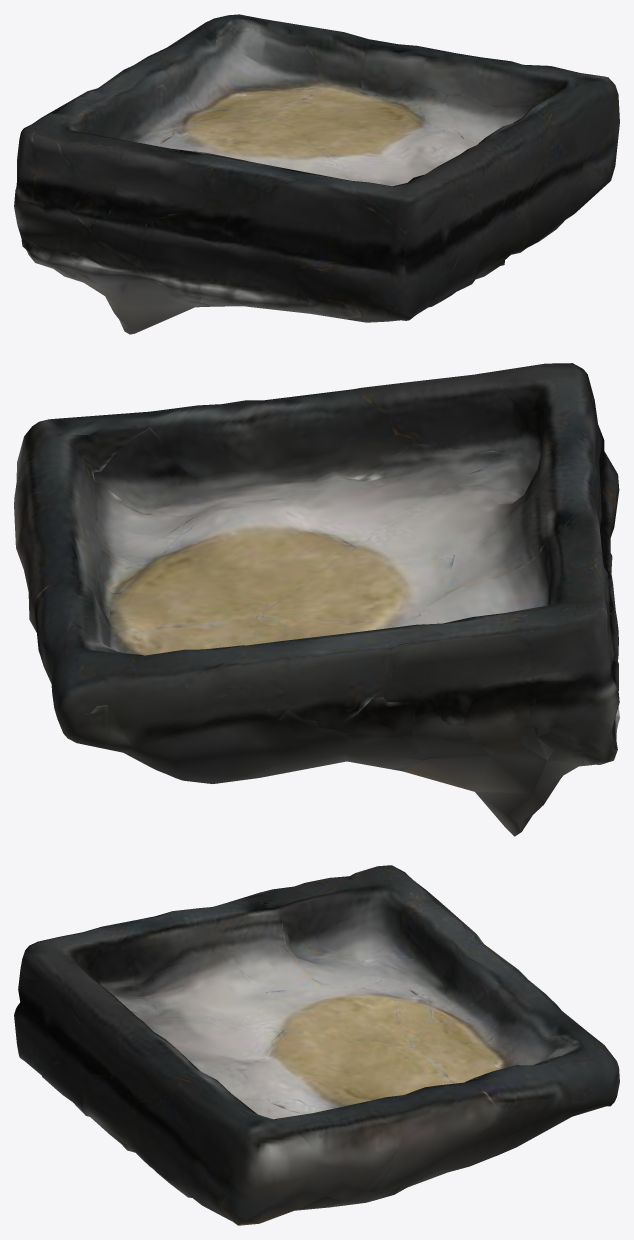
Rendered from hall.glb.
3 views of the same model, one above another, from view 1: azimuth 30°, elevation 25°; view 2: azimuth 150°, elevation 25°; view 3: azimuth 270°, elevation 25° (orthographic). The views are drawn at different scales.
Bounding box in the file's own units: 0.942 × 0.3803 × 0.9341.
1 material, 1 textured.
